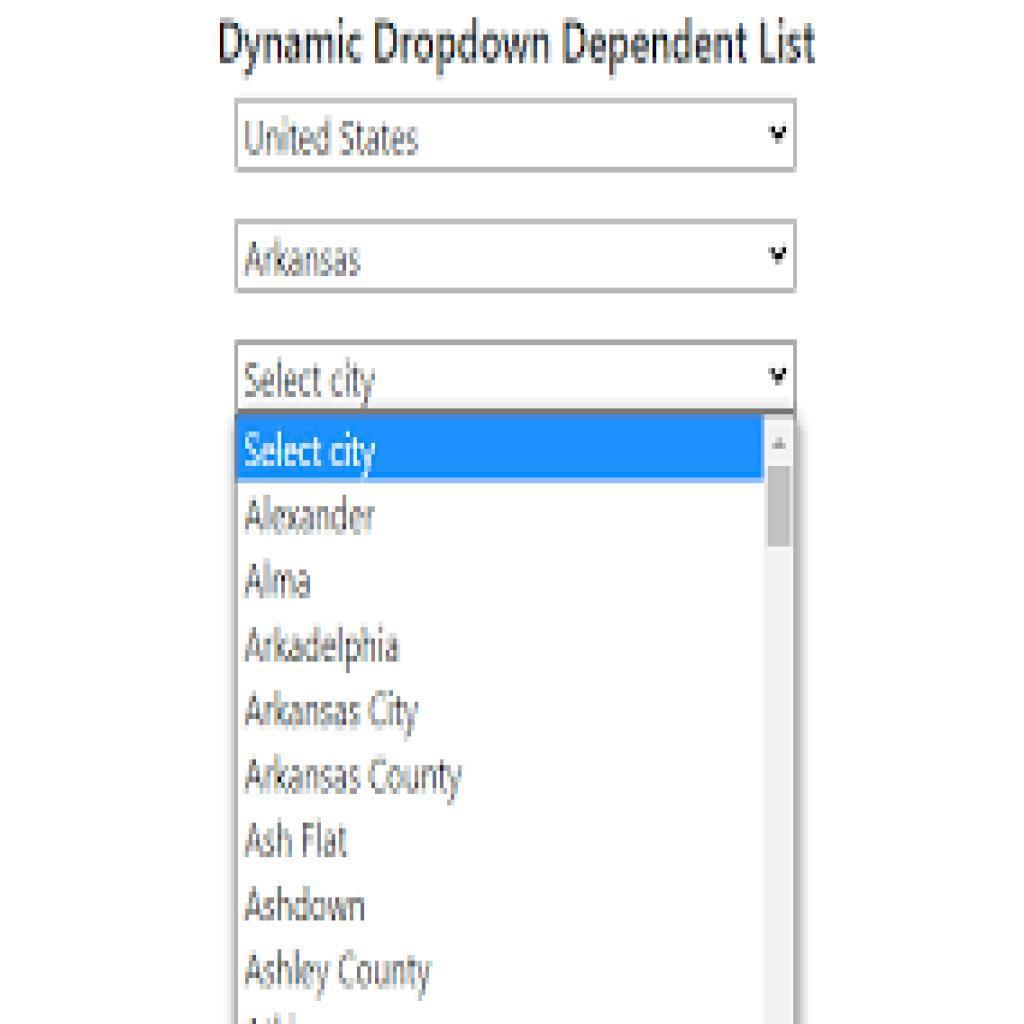dropdown: (235, 97, 798, 176), (241, 340, 799, 413), (233, 224, 800, 290)
